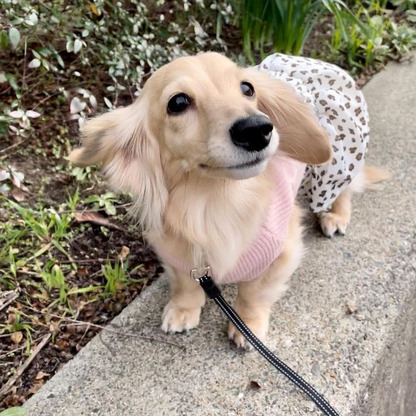dachshund: (72, 37, 379, 355)
